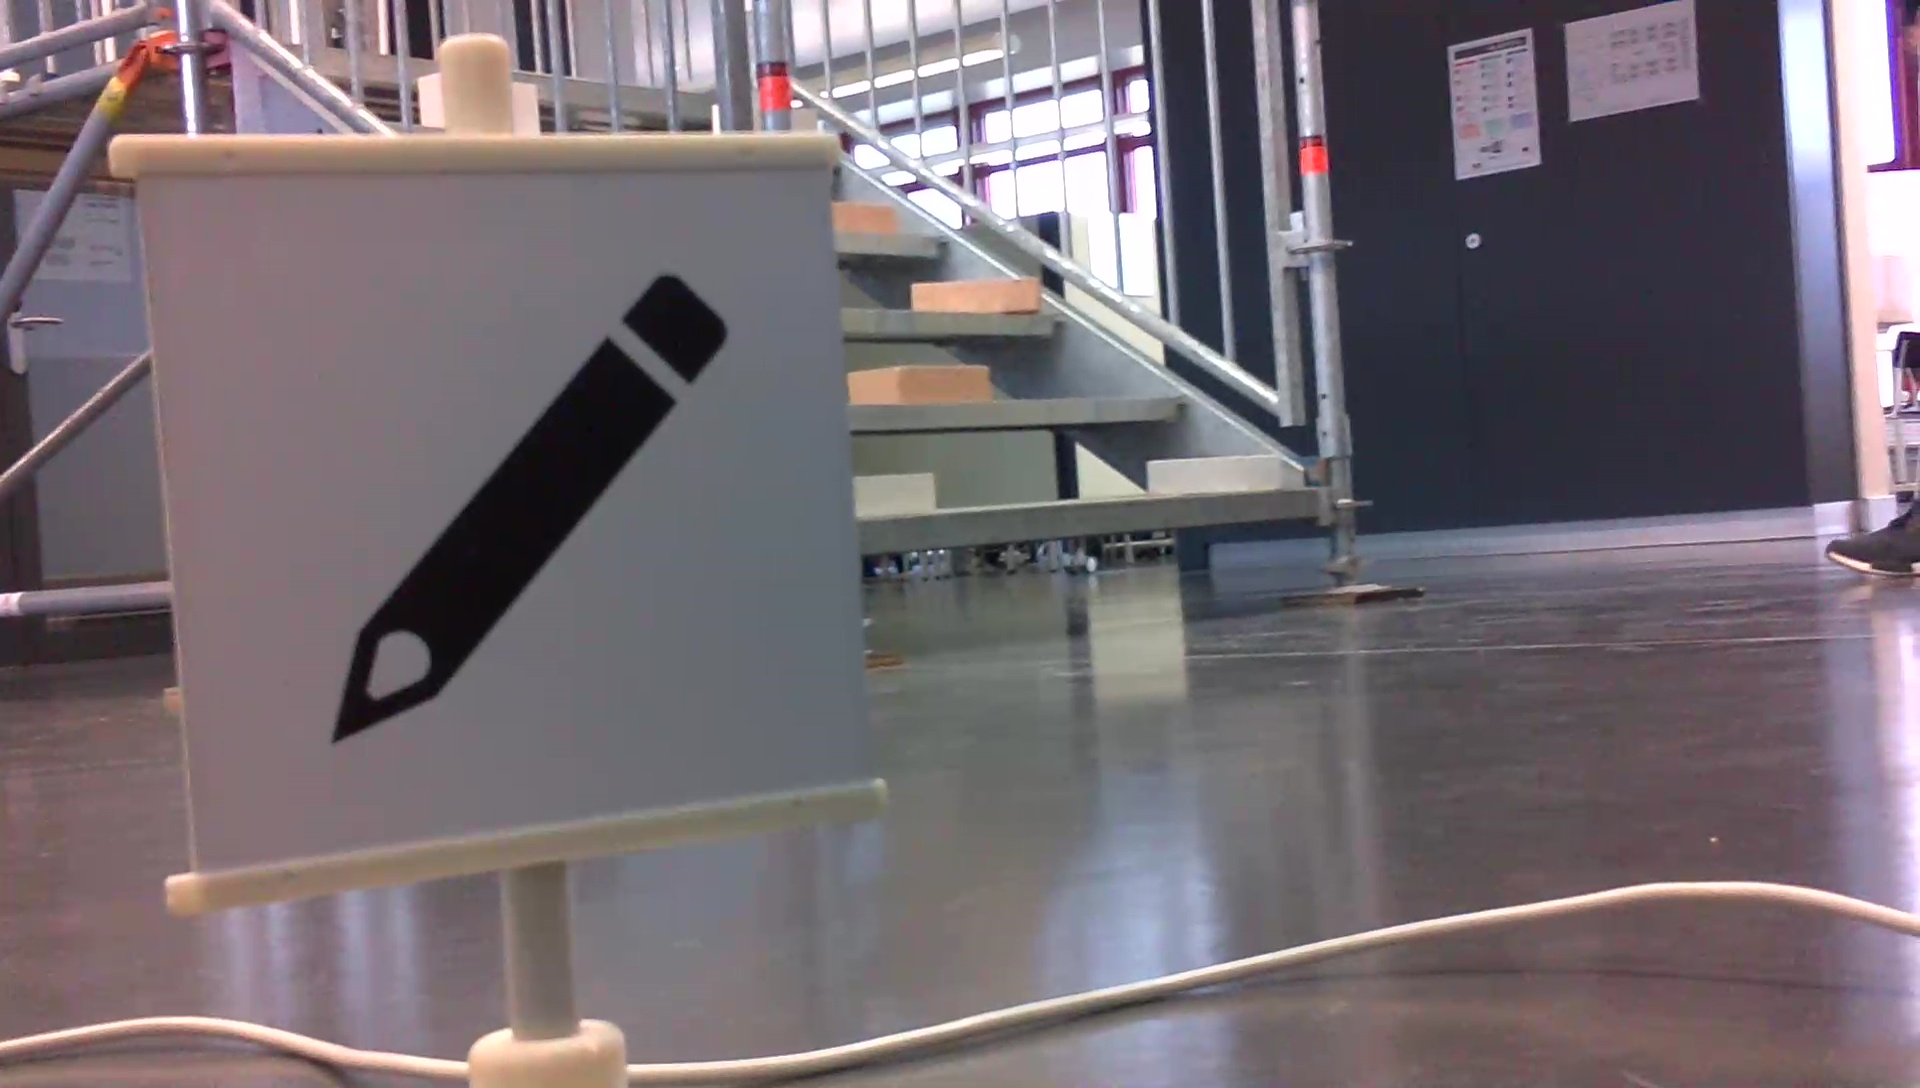brick: (851, 367, 986, 402), (1150, 454, 1279, 488), (915, 280, 1038, 310), (855, 475, 934, 513), (833, 203, 895, 233)
edge: (860, 489, 1317, 555), (849, 396, 1195, 429), (843, 309, 1072, 342), (833, 228, 952, 260)
pencil: (318, 258, 746, 754)
